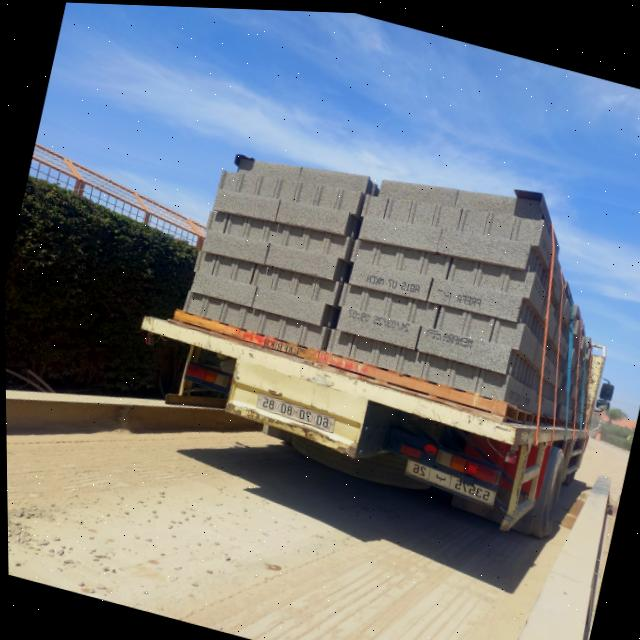bricks: (183, 155, 593, 420)
